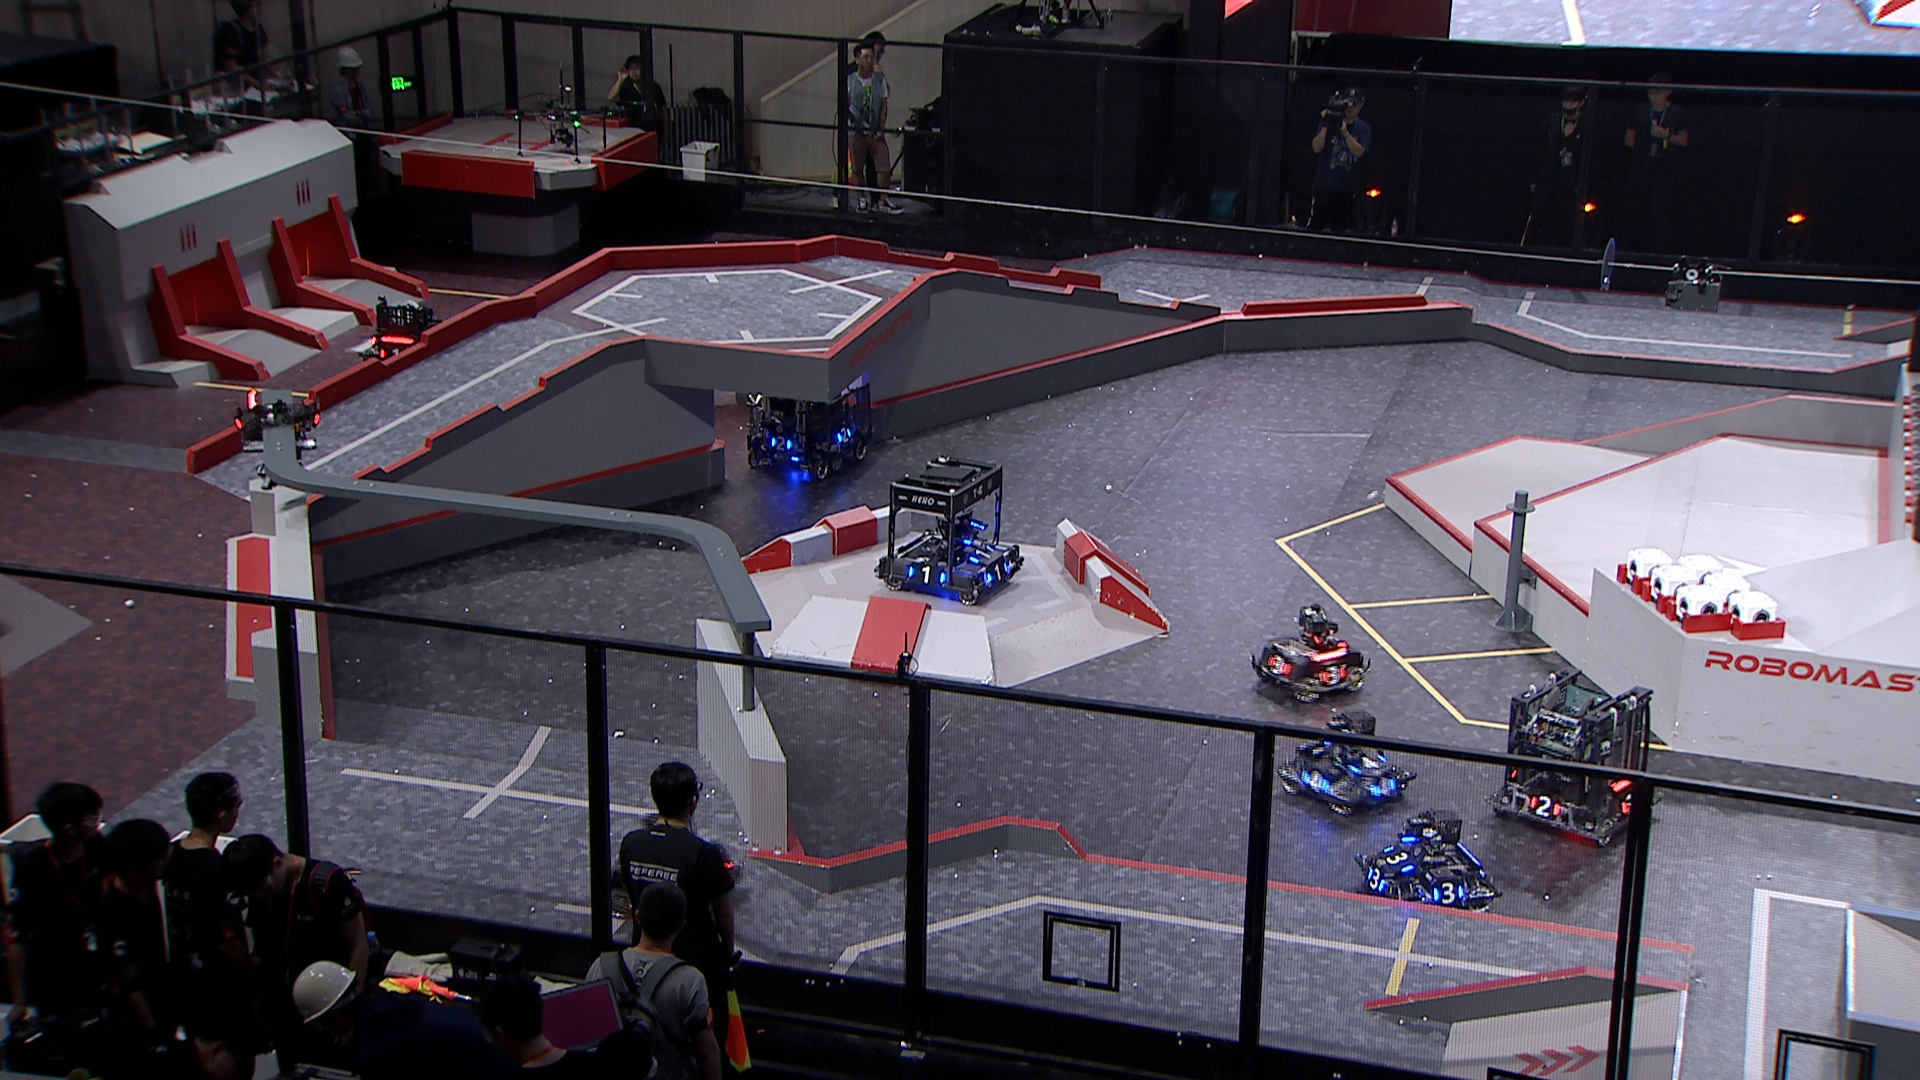armor: (907, 564, 945, 584), (1302, 769, 1332, 793), (1528, 796, 1561, 818), (1382, 844, 1408, 870), (1432, 885, 1465, 903), (1370, 775, 1396, 798), (1354, 752, 1382, 773), (1319, 665, 1346, 684), (1618, 789, 1636, 818), (988, 560, 1010, 584), (1266, 654, 1291, 675), (767, 434, 795, 452), (1365, 864, 1382, 891), (969, 543, 989, 564), (1324, 632, 1346, 647), (835, 425, 852, 444), (380, 348, 404, 361)
car: (1485, 671, 1667, 841), (872, 444, 1022, 607), (593, 803, 738, 922), (738, 353, 878, 476), (1353, 807, 1498, 918), (1276, 703, 1414, 818), (1247, 603, 1370, 698), (353, 291, 447, 389)
watcher: (229, 384, 324, 489)
